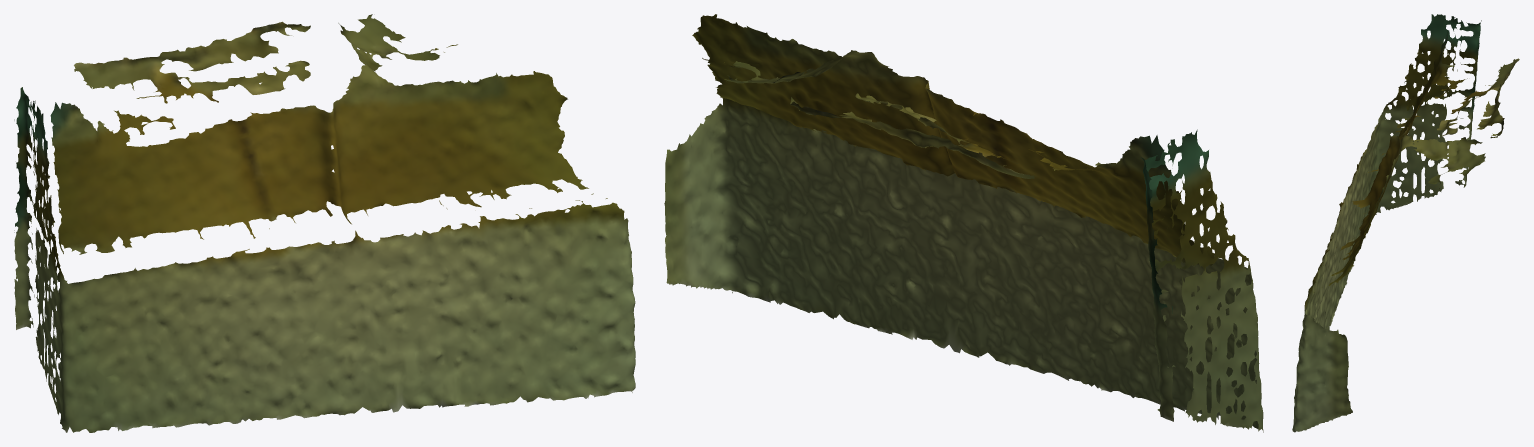
The model's file is color_model_f009_20260206_132735.obj.
3 renders of one model, left to right at view 1: azimuth 30°, elevation 25°; view 2: azimuth 150°, elevation 25°; view 3: azimuth 270°, elevation 25°, orthographic. The views are drawn at different scales.
Size of the model in its own units: 1.79 by 1.06 by 0.8992.
